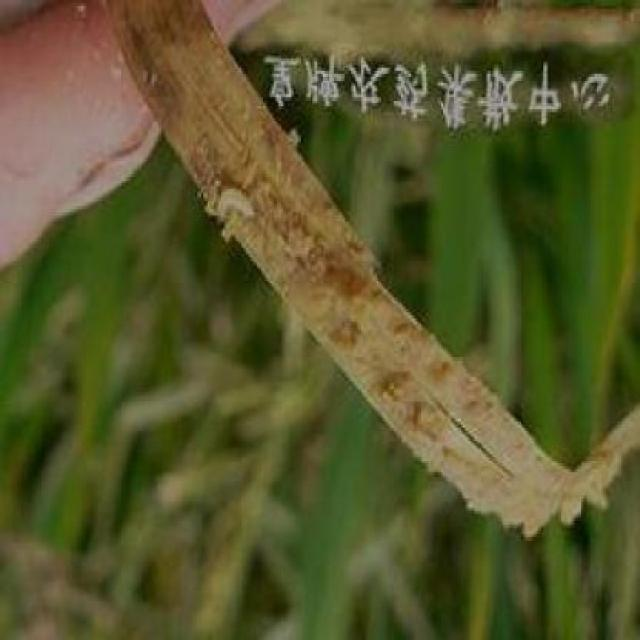whorl-maggot: (209, 179, 262, 243)
